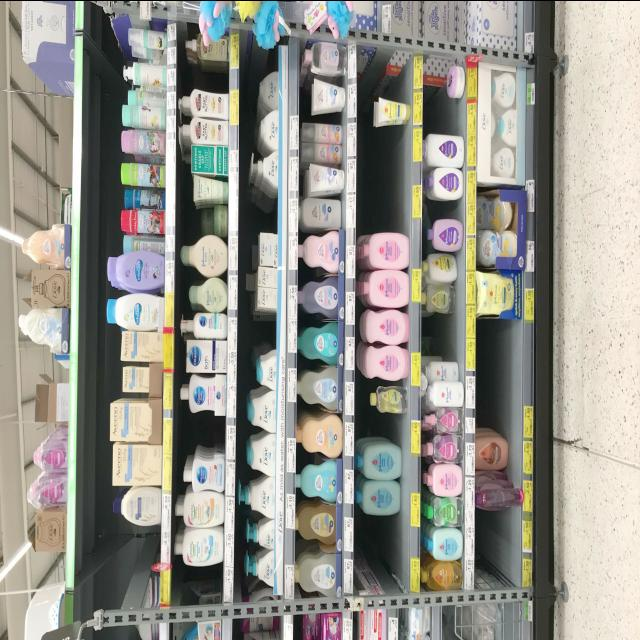empty_space: (359, 128, 409, 228), (478, 325, 515, 423), (99, 526, 157, 570), (360, 512, 404, 568), (473, 510, 519, 563), (427, 313, 463, 351), (182, 413, 222, 447), (186, 63, 230, 89), (425, 106, 463, 134), (245, 319, 279, 347), (250, 198, 278, 230), (365, 417, 403, 435)
